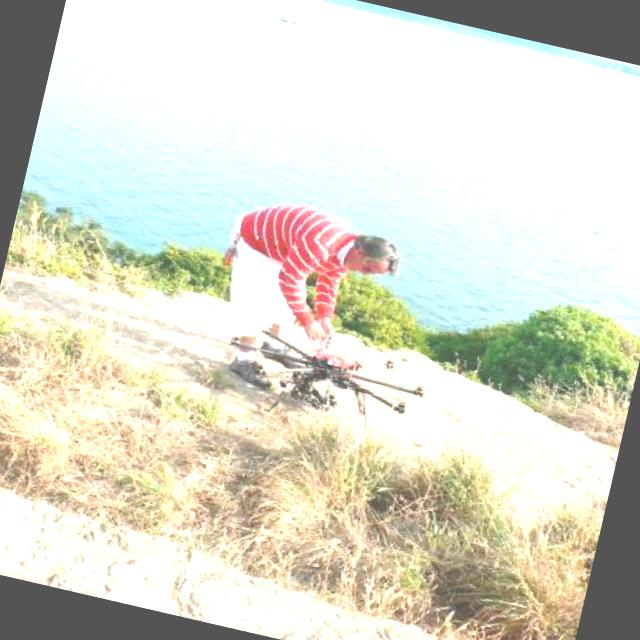Person: (181, 183, 418, 421)
